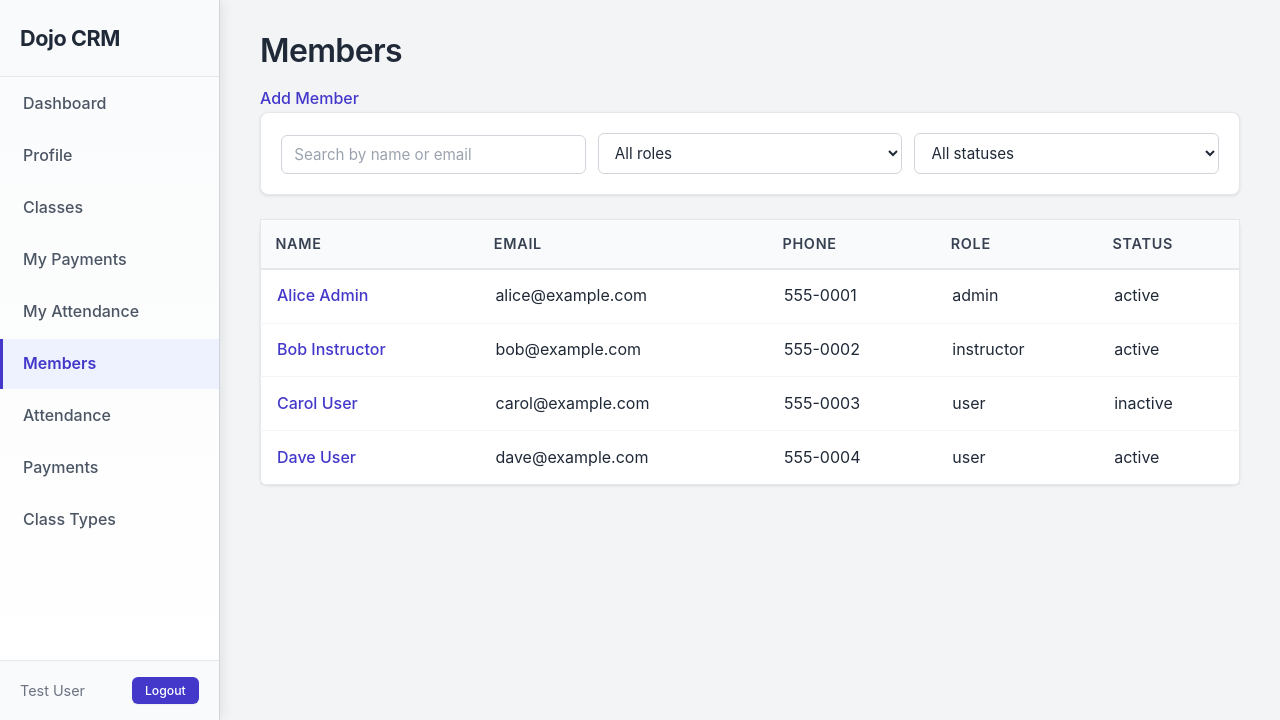
Test: Members › filters by search text (name)
Expected: the link "Alice Admin" is shown, [277,285,368,305]
Type "carol" into the field named "Search members" at {"x": 433, "y": 155}, box [281,135,586,174]
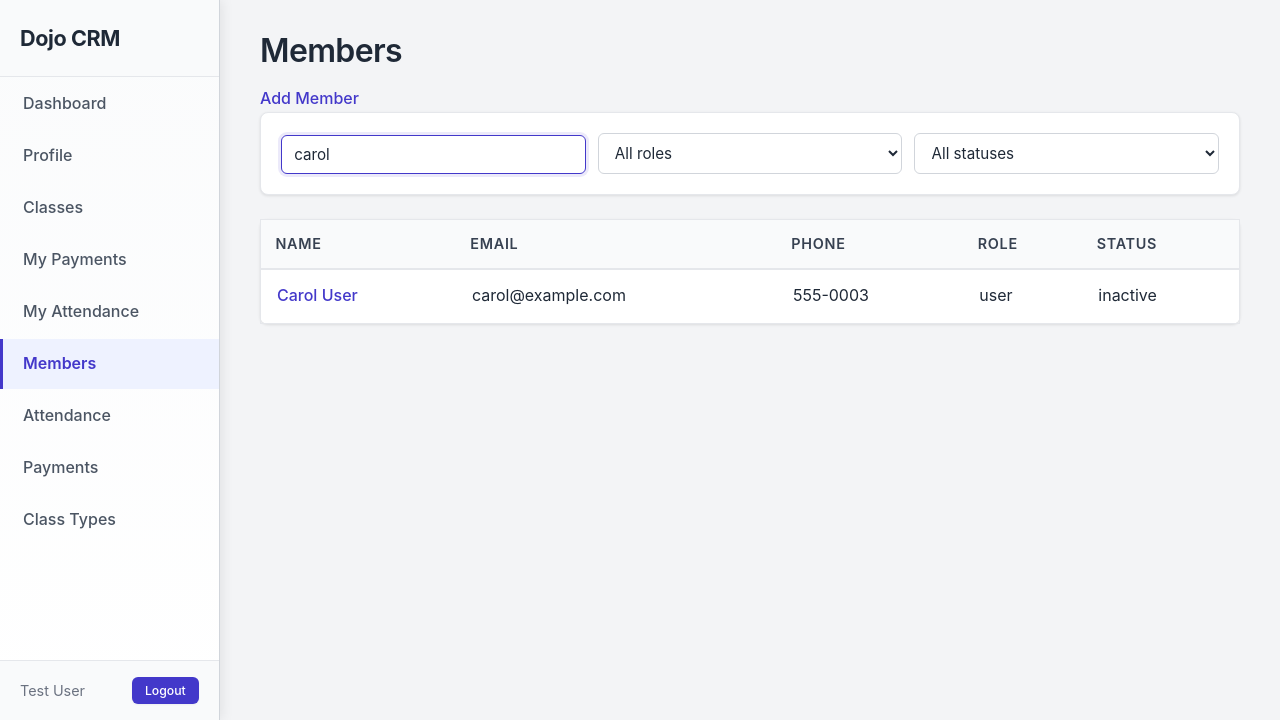
Result: the link "Alice Admin" is gone
Result: the link "Bob Instructor" is gone
Result: the link "Dave User" is gone
